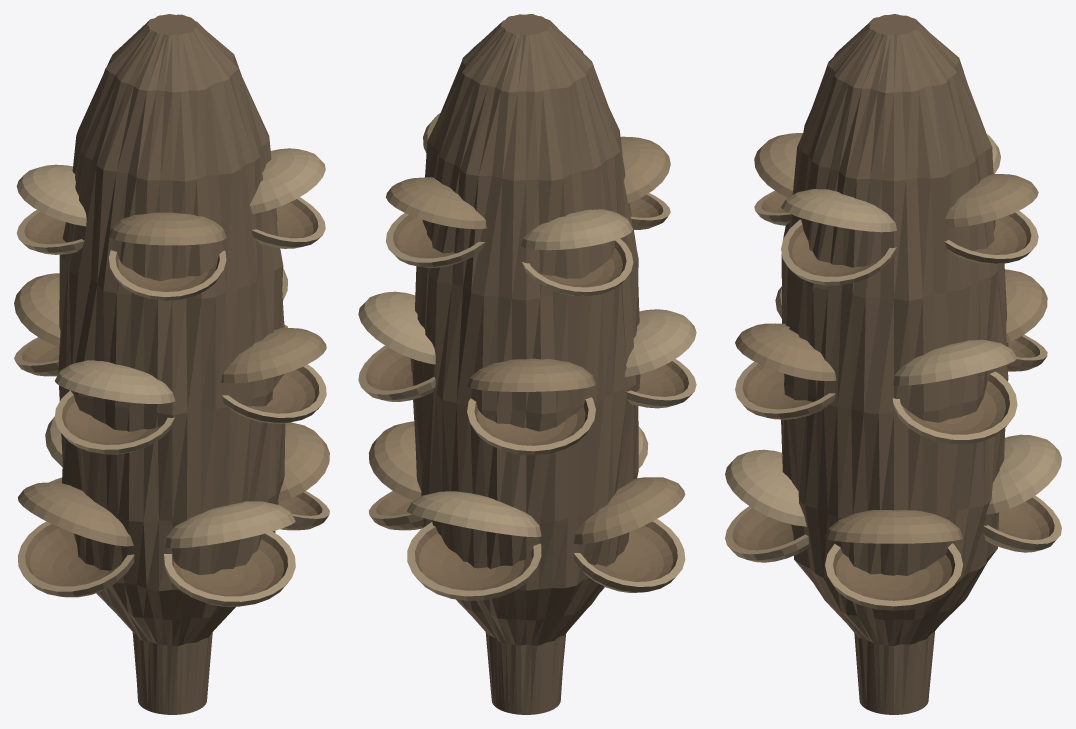
The picture shows the model from 3 angles, left to right: view 1: azimuth 30°, elevation 25°; view 2: azimuth 150°, elevation 25°; view 3: azimuth 270°, elevation 25°; orthographic projection.
Parts seen in each view (by area): view 1: WholeCutStalkAndWoodyFruitingAxis, WholeWoodyFollicle_04_LowerValve, WholeWoodyFollicle_03_LowerValve, WholeWoodyFollicle_03_UpperValve, WholeWoodyFollicle_04_UpperValve, WholeWoodyFollicle_08_UpperValve, WholeWoodyFollicle_07_UpperValve, WholeWoodyFollicle_07_LowerValve, WholeWoodyFollicle_11_UpperValve, WholeWoodyFollicle_12_UpperValve, WholeWoodyFollicle_08_LowerValve, WholeWoodyFollicle_10_UpperValve (+8 smaller); view 2: WholeCutStalkAndWoodyFruitingAxis, WholeWoodyFollicle_02_LowerValve, WholeWoodyFollicle_03_LowerValve, WholeWoodyFollicle_03_UpperValve, WholeWoodyFollicle_02_UpperValve, WholeWoodyFollicle_06_LowerValve, WholeWoodyFollicle_06_UpperValve, WholeWoodyFollicle_05_UpperValve, WholeWoodyFollicle_09_UpperValve, WholeWoodyFollicle_07_UpperValve, WholeWoodyFollicle_10_UpperValve, WholeWoodyFollicle_01_UpperValve (+7 smaller); view 3: WholeCutStalkAndWoodyFruitingAxis, WholeWoodyFollicle_01_LowerValve, WholeWoodyFollicle_04_UpperValve, WholeWoodyFollicle_01_UpperValve, WholeWoodyFollicle_02_UpperValve, WholeWoodyFollicle_05_LowerValve, WholeWoodyFollicle_08_UpperValve, WholeWoodyFollicle_05_UpperValve, WholeWoodyFollicle_09_UpperValve, WholeWoodyFollicle_12_UpperValve, WholeWoodyFollicle_04_LowerValve, WholeWoodyFollicle_08_LowerValve (+7 smaller).
Boxes of the visible parts, left/top/right/bottom form: WholeCutStalkAndWoodyFruitingAxis: left=58, top=14, right=285, bottom=714; WholeWoodyFollicle_04_LowerValve: left=164, top=531, right=295, bottom=606; WholeWoodyFollicle_03_LowerValve: left=17, top=521, right=134, bottom=597; WholeWoodyFollicle_03_UpperValve: left=18, top=482, right=133, bottom=546; WholeWoodyFollicle_04_UpperValve: left=164, top=501, right=295, bottom=548; WholeWoodyFollicle_08_UpperValve: left=221, top=327, right=326, bottom=383; WholeWoodyFollicle_07_UpperValve: left=55, top=360, right=175, bottom=403; WholeWoodyFollicle_07_LowerValve: left=54, top=390, right=174, bottom=454; WholeWoodyFollicle_11_UpperValve: left=109, top=212, right=226, bottom=245; WholeWoodyFollicle_12_UpperValve: left=249, top=148, right=325, bottom=214; WholeWoodyFollicle_08_LowerValve: left=221, top=364, right=326, bottom=423; WholeWoodyFollicle_10_UpperValve: left=16, top=164, right=86, bottom=226; WholeCutStalkAndWoodyFruitingAxis: left=410, top=14, right=640, bottom=714; WholeWoodyFollicle_02_LowerValve: left=407, top=522, right=541, bottom=600; WholeWoodyFollicle_03_LowerValve: left=573, top=519, right=685, bottom=592; WholeWoodyFollicle_03_UpperValve: left=574, top=477, right=685, bottom=544; WholeWoodyFollicle_02_UpperValve: left=407, top=491, right=541, bottom=537; WholeWoodyFollicle_06_LowerValve: left=467, top=397, right=595, bottom=455; WholeWoodyFollicle_06_UpperValve: left=467, top=358, right=595, bottom=391; WholeWoodyFollicle_05_UpperValve: left=358, top=291, right=435, bottom=364; WholeWoodyFollicle_09_UpperValve: left=386, top=177, right=486, bottom=229; WholeWoodyFollicle_07_UpperValve: left=624, top=309, right=696, bottom=377; WholeWoodyFollicle_10_UpperValve: left=521, top=209, right=633, bottom=250; WholeWoodyFollicle_01_UpperValve: left=368, top=421, right=421, bottom=500; WholeCutStalkAndWoodyFruitingAxis: left=781, top=14, right=1008, bottom=714; WholeWoodyFollicle_01_LowerValve: left=825, top=543, right=962, bottom=610; WholeWoodyFollicle_04_UpperValve: left=725, top=449, right=806, bottom=526; WholeWoodyFollicle_01_UpperValve: left=825, top=510, right=962, bottom=543; WholeWoodyFollicle_02_UpperValve: left=986, top=434, right=1061, bottom=514; WholeWoodyFollicle_05_LowerValve: left=892, top=371, right=1017, bottom=444; WholeWoodyFollicle_08_UpperValve: left=735, top=323, right=836, bottom=380; WholeWoodyFollicle_05_UpperValve: left=892, top=339, right=1017, bottom=385; WholeWoodyFollicle_09_UpperValve: left=943, top=174, right=1038, bottom=227; WholeWoodyFollicle_12_UpperValve: left=781, top=189, right=896, bottom=232; WholeWoodyFollicle_04_LowerValve: left=725, top=506, right=808, bottom=562; WholeWoodyFollicle_08_LowerValve: left=735, top=361, right=835, bottom=419.
Bounding box in the file's own units: 0.0683 × 0.151 × 0.0683.
